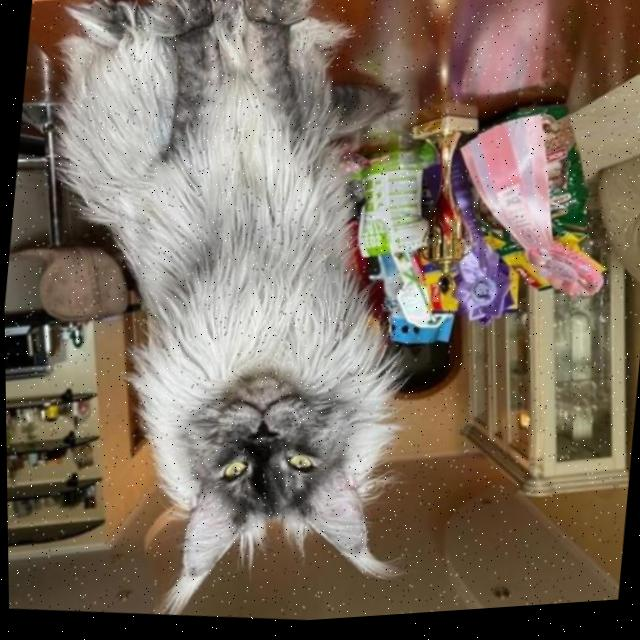Cats: (31, 0, 461, 638)
